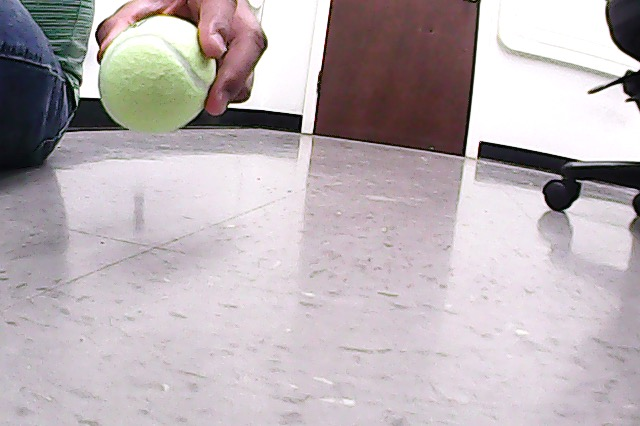ball: (99, 17, 217, 132)
